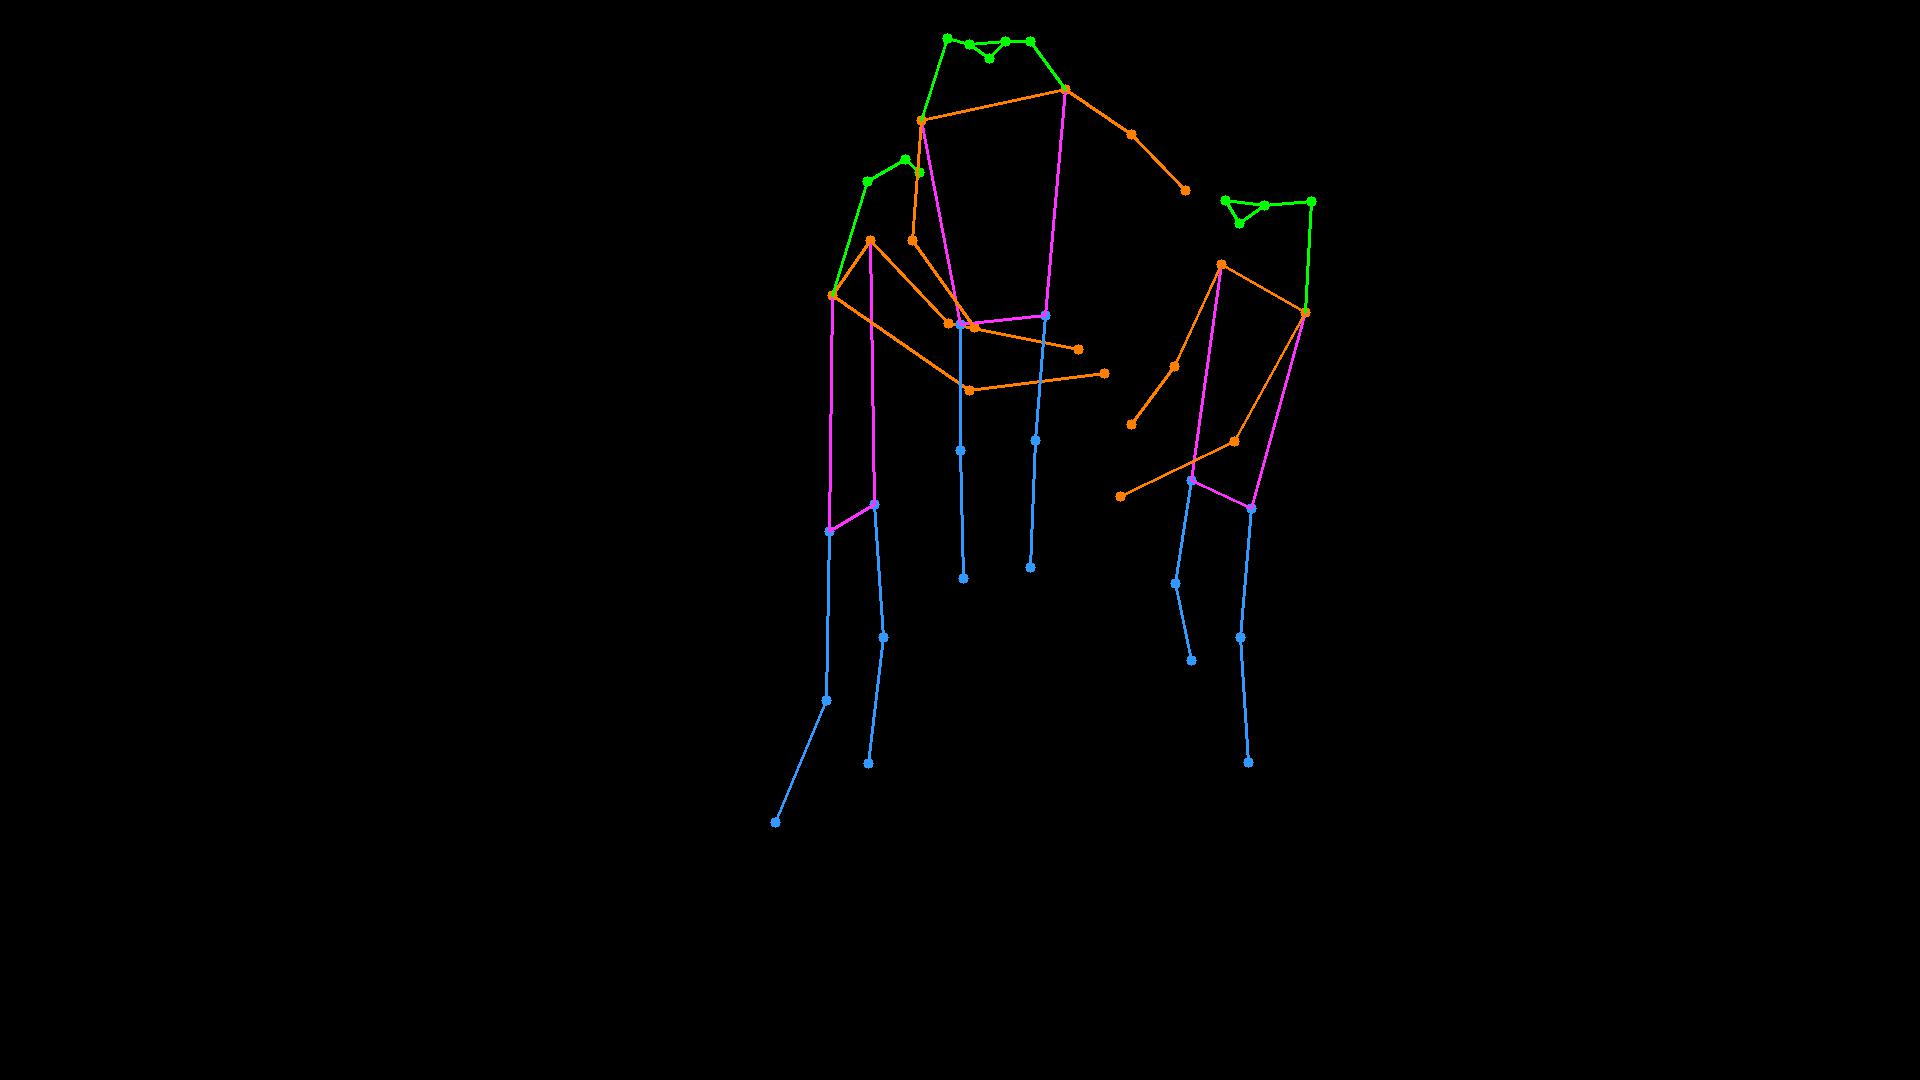normal: (679, 1, 1361, 882)
